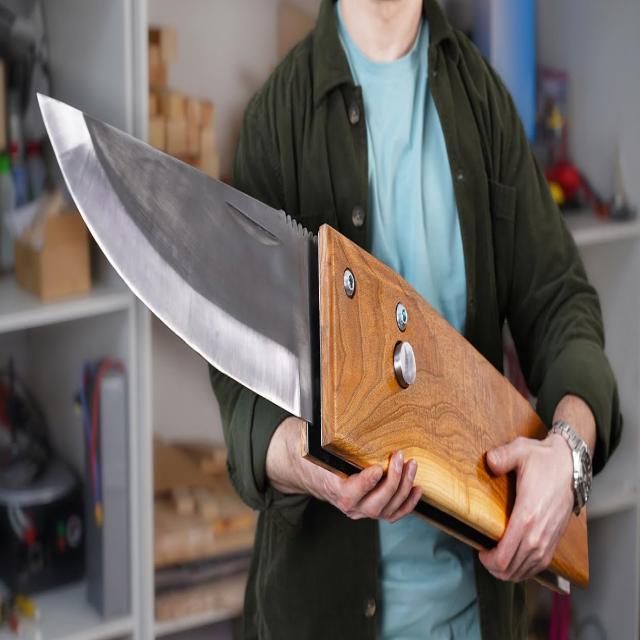Weapon: (38, 94, 547, 548)
